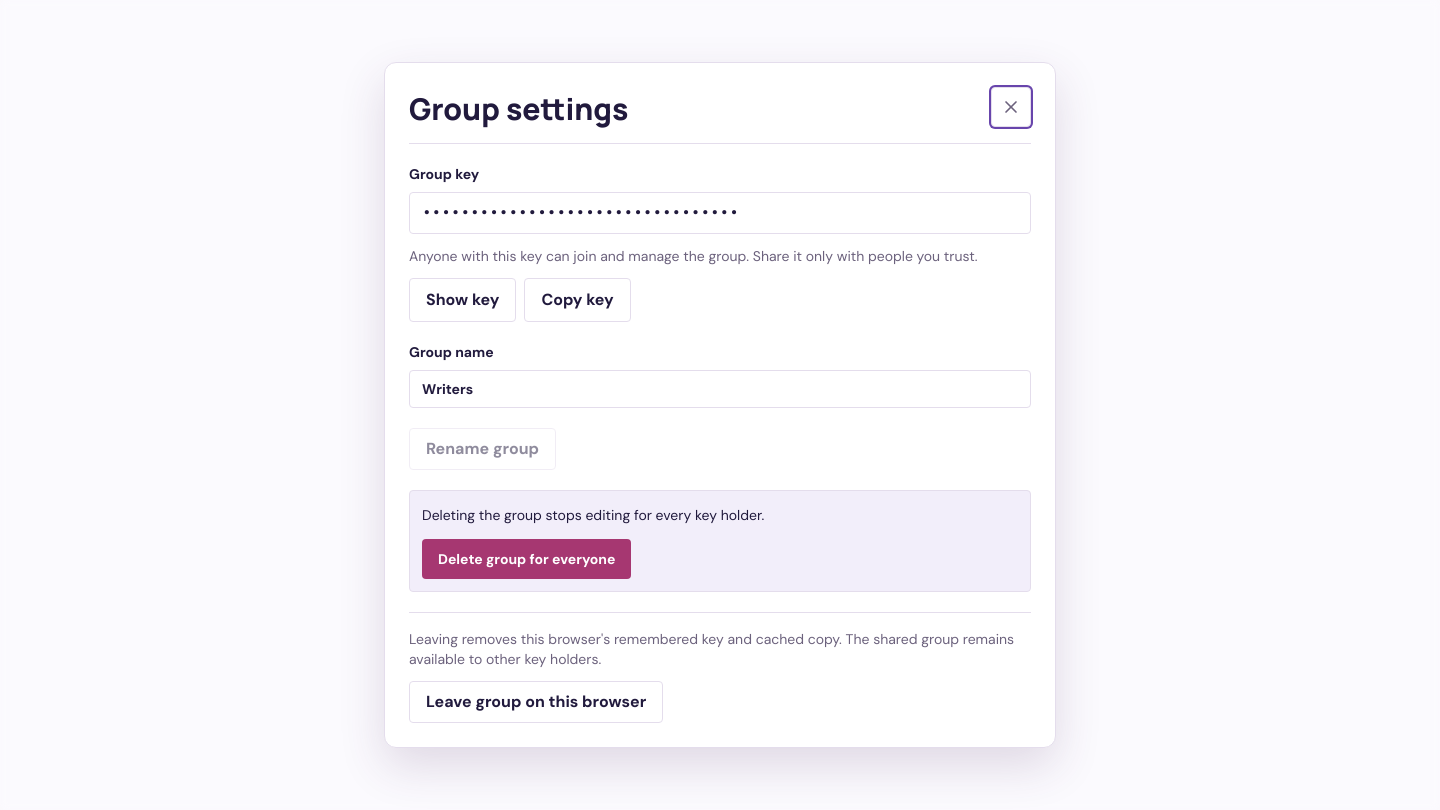
Test: copies the remembered key with confirmation
The image size is (1440, 810).
Click the button "Copy key".
click(578, 300)  # box [524, 278, 631, 322]
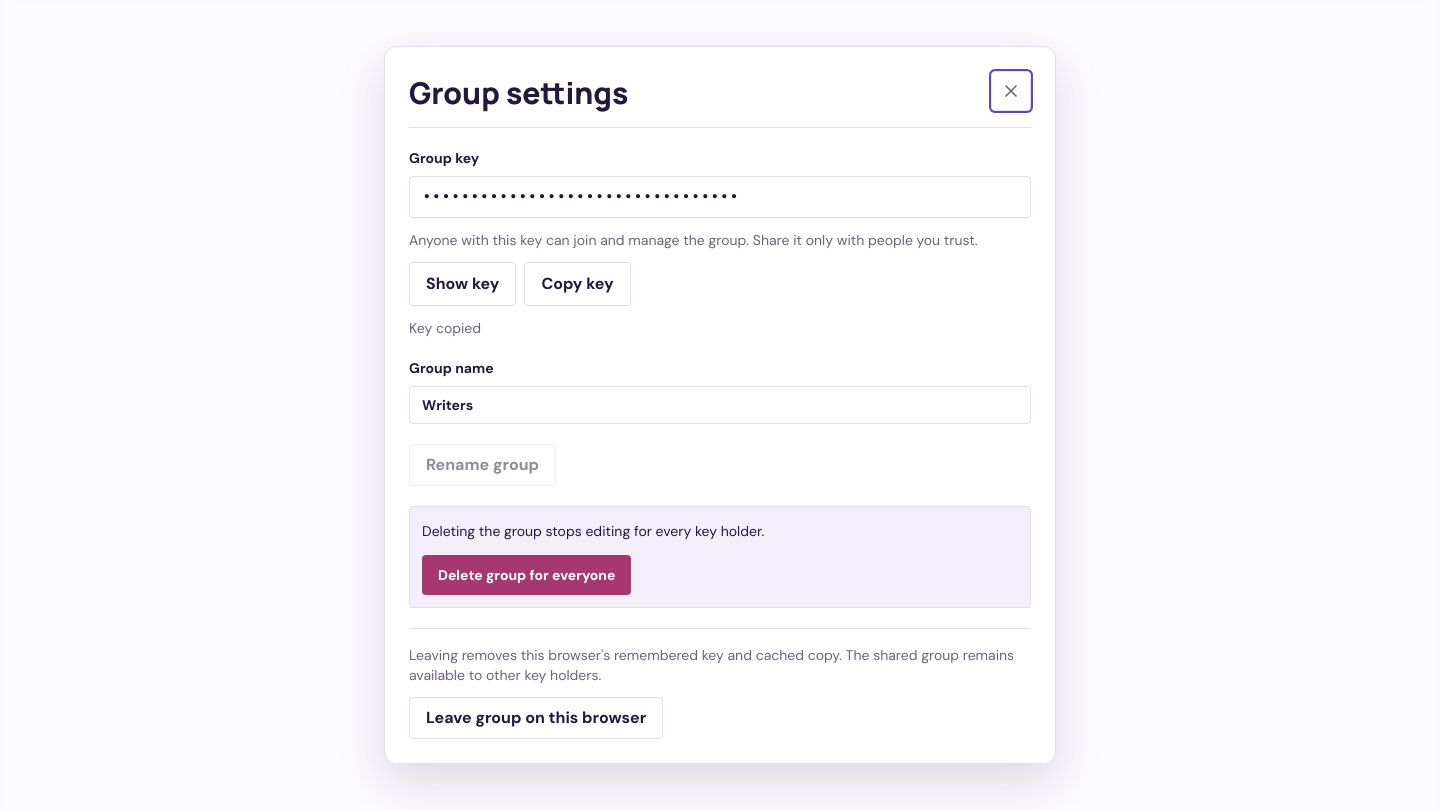
Expected: the message reads "Key copied", [409, 319, 481, 337]
